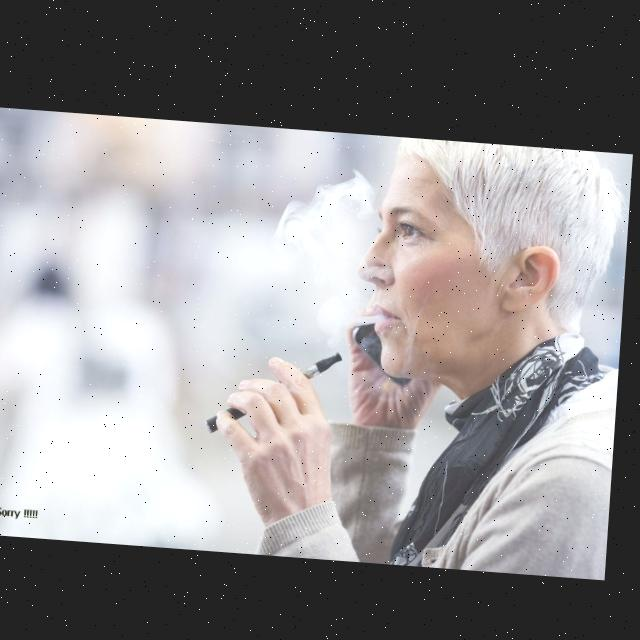vape: (211, 340, 348, 439)
